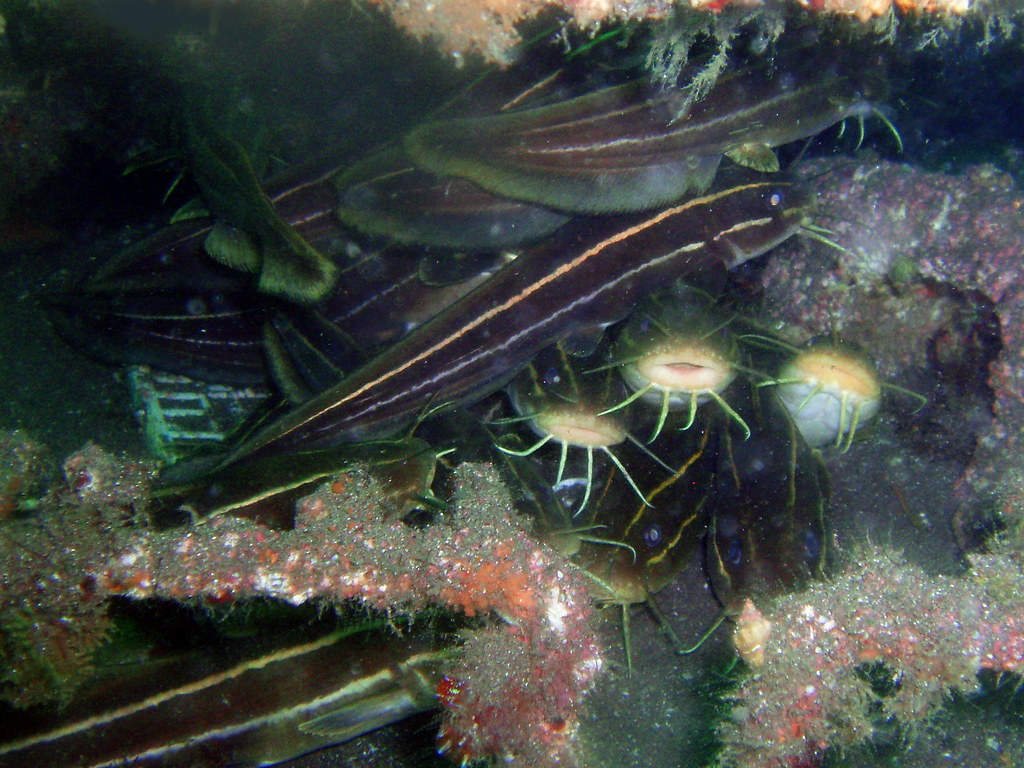gonzui: (594, 284, 778, 433)
